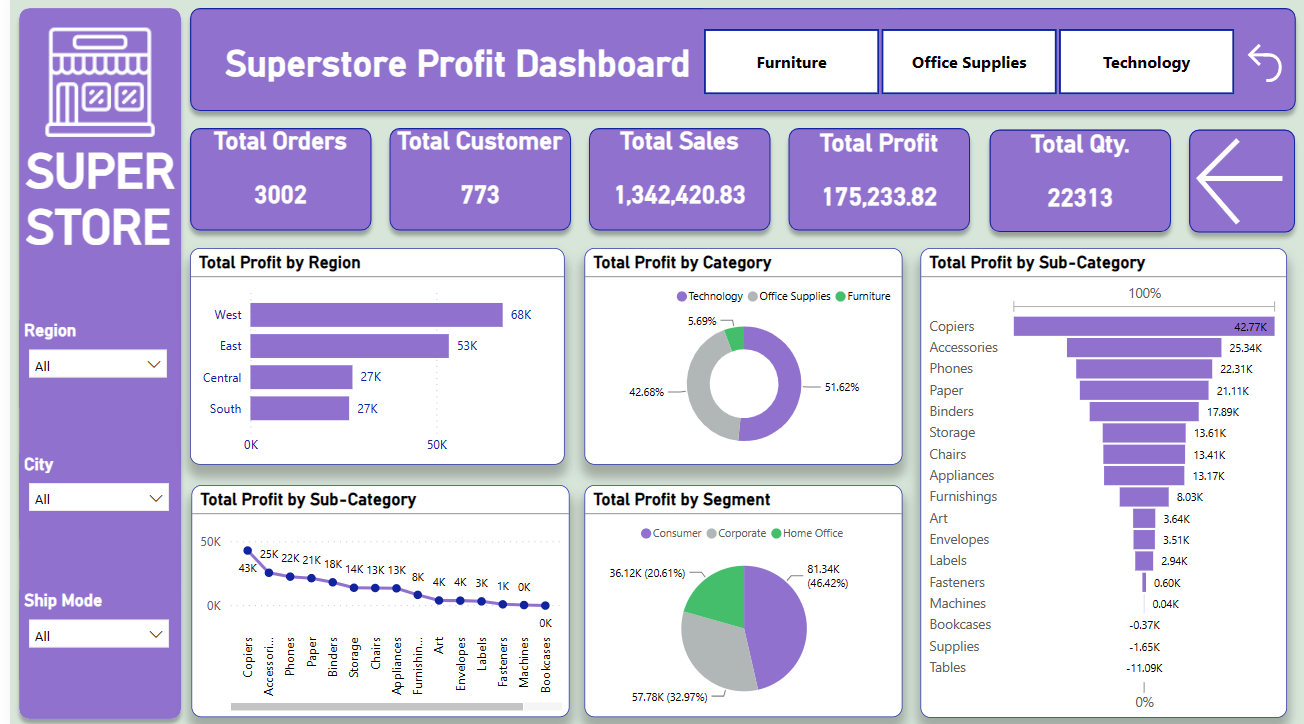

Layout of this report page (visuals, bound fields, positions):
{"tool":"powerbi","page":{"name":"Profit","canvas":[1280,720],"ordinal":1},"visuals":[{"type":"shape","box":[168.3,0,1109.9,119.7],"z":0},{"type":"shape","box":[0,0,178,720],"z":1000},{"type":"textbox","title":"Superstore Profit Dashboard","box":[208,42.4,498.8,38.5],"z":2000},{"type":"textbox","title":"SUPER STORE","box":[9.7,142.4,158.6,118.1],"z":3000},{"type":"group","id":"g1","title":"Group 1","box":[168.5,119.2,197.1,119.2],"z":4000},{"type":"shape","box":[168.5,119.2,197.1,119.2],"z":4000,"group":"g1"},{"type":"shape","box":[365.6,119.2,197.1,119.2],"z":4000,"group":"g2"},{"type":"shape","box":[562.6,119.2,197.1,119.2],"z":4000,"group":"g3"},{"type":"shape","box":[759.7,119.2,197.1,119.2],"z":4000,"group":"g4"},{"type":"shape","box":[957.8,119.7,197.1,119.2],"z":4000,"group":"g5"},{"type":"group","id":"g2","title":"Group 1","box":[365.6,119.2,197.1,119.2],"z":5000},{"type":"card","title":"Total Orders","fields":{"Values":["Orders.Total_Orders"]},"box":[178.6,127.1,175.3,104.9],"z":5000,"group":"g1"},{"type":"card","title":"Total Customer","fields":{"Values":["Orders.Total_Customers"]},"box":[375.7,127.1,175.3,104.9],"z":5000,"group":"g2"},{"type":"card","title":"Total Sales","fields":{"Values":["Orders.Total_Sales"]},"box":[572.7,127.1,175.3,104.9],"z":5000,"group":"g3"},{"type":"card","title":"Total Profit","fields":{"Values":["Orders.Total_Profit"]},"box":[768.3,127.5,178.6,104.9],"z":5000,"group":"g4"},{"type":"card","title":"Total Qty.","fields":{"Values":["Orders.Total_Qty"]},"box":[966.4,128,178.6,104.9],"z":5000,"group":"g5"},{"type":"group","id":"g3","title":"Group 1","box":[562.6,119.2,197.1,119.2],"z":6000},{"type":"group","id":"g4","title":"Group 1","box":[759.7,119.2,197.1,119.2],"z":7000},{"type":"clusteredBarChart","title":"Total Profit by Region","fields":{"Category":["Orders.Region"],"Y":["Orders.Total_Profit"]},"box":[177.2,246.5,369.8,213.8],"z":8000},{"type":"group","id":"g5","title":"Group 1","box":[957.8,119.7,197.4,119.7],"z":9000},{"type":"lineChart","title":"Total Profit by Sub-Category","fields":{"Category":["Orders.Sub-Category"],"Y":["Orders.Total_Profit"]},"box":[179.1,479.5,373.6,229.2],"z":10000},{"type":"donutChart","title":"Total Profit by Category","fields":{"Category":["Orders.Category"],"Y":["Orders.Total_Profit"]},"box":[568.1,246.5,313.9,213.8],"z":11000},{"type":"slicer","title":"Category","fields":{"Values":["Orders.Category"]},"box":[659.3,22.2,574.1,79],"z":12000},{"type":"pieChart","title":"Total Profit by Segment","fields":{"Y":["Orders.Total_Profit"],"Category":["Orders.Segment"]},"box":[568.1,479.5,313.9,229.2],"z":13000},{"type":"funnel","title":"Total Profit by Sub-Category","fields":{"Category":["Orders.Sub-Category"],"Y":["Orders.Total_Profit"]},"box":[899.4,246.5,362.1,464.1],"z":14000},{"type":"slicer","title":"Ship Mode","fields":{"Values":["Orders.Ship Mode"]},"box":[9.6,583.5,157.9,88.6],"z":15000},{"type":"slicer","title":"City","fields":{"Values":["Orders.City"]},"box":[9.6,448.7,157.9,84.7],"z":16000},{"type":"slicer","title":"Region","fields":{"Values":["Orders.Region"]},"box":[9.6,317.8,156,86.7],"z":17000},{"type":"image","box":[29.1,22.7,118.1,119.7],"z":18000},{"type":"actionButton","box":[1214.8,23.5,49.4,79],"z":19000},{"type":"actionButton","box":[1154.9,119.7,122.5,119.7],"z":20000}]}

Visuals, with their boxes in screenshot pixels (x1, y1, x2, y2), scaled from the page's 1280x720 canvas onto the 1304x724 screenshot:
shape: x1=171 y1=0 x2=1302 y2=120
shape: x1=0 y1=0 x2=181 y2=723
"Superstore Profit Dashboard" textbox: x1=212 y1=43 x2=720 y2=81
"SUPER STORE" textbox: x1=10 y1=143 x2=171 y2=262
"Group 1" group: x1=172 y1=120 x2=372 y2=240
shape: x1=172 y1=120 x2=372 y2=240
shape: x1=372 y1=120 x2=573 y2=240
shape: x1=573 y1=120 x2=774 y2=240
shape: x1=774 y1=120 x2=975 y2=240
shape: x1=976 y1=120 x2=1177 y2=240
"Group 1" group: x1=372 y1=120 x2=573 y2=240
"Total Orders" card: x1=182 y1=128 x2=361 y2=233
"Total Customer" card: x1=383 y1=128 x2=561 y2=233
"Total Sales" card: x1=583 y1=128 x2=762 y2=233
"Total Profit" card: x1=783 y1=128 x2=965 y2=234
"Total Qty." card: x1=985 y1=129 x2=1166 y2=234
"Group 1" group: x1=573 y1=120 x2=774 y2=240
"Group 1" group: x1=774 y1=120 x2=975 y2=240
"Total Profit by Region" clusteredBarChart: x1=181 y1=248 x2=557 y2=463
"Group 1" group: x1=976 y1=120 x2=1177 y2=241
"Total Profit by Sub-Category" lineChart: x1=182 y1=482 x2=563 y2=713
"Total Profit by Category" donutChart: x1=579 y1=248 x2=899 y2=463
"Category" slicer: x1=672 y1=22 x2=1257 y2=102
"Total Profit by Segment" pieChart: x1=579 y1=482 x2=899 y2=713
"Total Profit by Sub-Category" funnel: x1=916 y1=248 x2=1285 y2=715
"Ship Mode" slicer: x1=10 y1=587 x2=171 y2=676
"City" slicer: x1=10 y1=451 x2=171 y2=536
"Region" slicer: x1=10 y1=320 x2=169 y2=407
image: x1=30 y1=23 x2=150 y2=143
actionButton: x1=1238 y1=24 x2=1288 y2=103
actionButton: x1=1177 y1=120 x2=1301 y2=241
